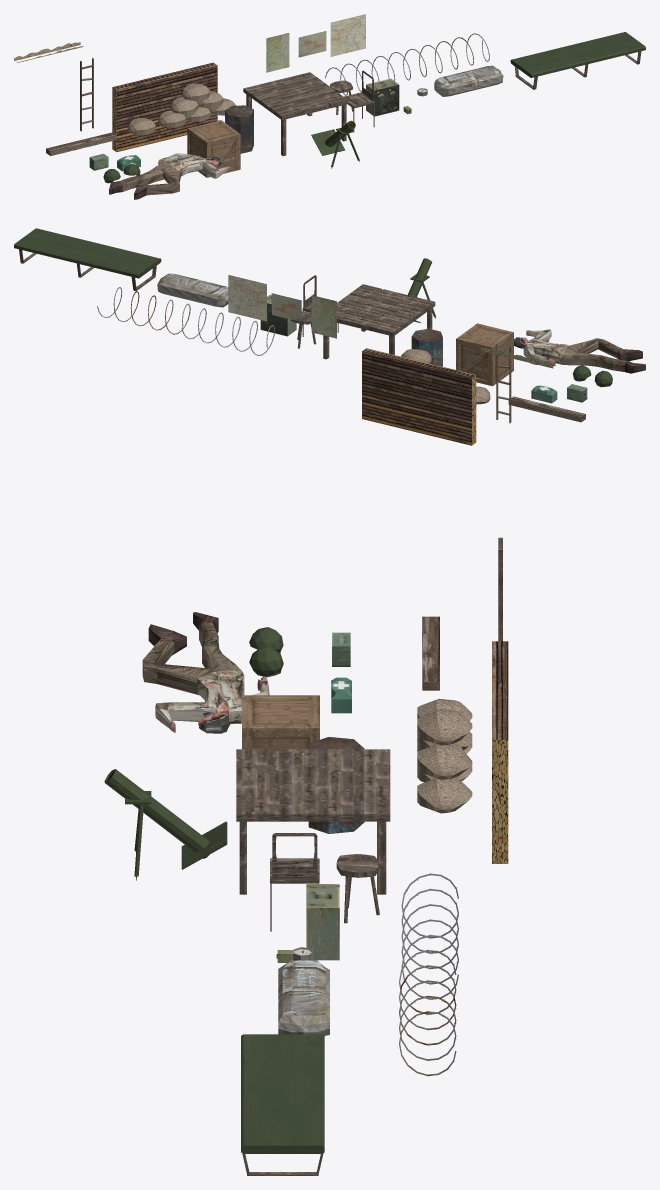
The model's file is WW2Props.fbx.
3 renders of one model, top to bottom at view 1: azimuth 30°, elevation 25°; view 2: azimuth 150°, elevation 25°; view 3: azimuth 270°, elevation 25°, orthographic. The views are drawn at different scales.
Visible parts, largest first — view 1: Planks, Table, Cot, DeadBody, Crate, SandbagStack, Bedroll, Map3, RadioGerman, Barrell, Moarter, Map1 (+9 smaller); view 2: Planks, Cot, Table, DeadBody, Crate, Bedroll, Map3, Map1, Barrell, Plank, Map2, RadioGerman (+6 smaller); view 3: Table, Cot, DeadBody, SandbagStack, Crate, Planks, Bedroll, Moarter, RadioGerman, BarbedWireRusty, Chair, BarbedWireClean (+3 smaller).
Boxes of the visible parts, left/top/right/bottom form: Planks: left=112, top=62, right=217, bottom=152; Table: left=243, top=72, right=348, bottom=156; Cot: left=510, top=32, right=645, bottom=89; DeadBody: left=109, top=153, right=229, bottom=199; Crate: left=187, top=120, right=240, bottom=177; SandbagStack: left=158, top=83, right=235, bottom=127; Bedroll: left=434, top=65, right=503, bottom=96; Map3: left=330, top=14, right=365, bottom=56; RadioGerman: left=366, top=78, right=399, bottom=116; Barrell: left=225, top=105, right=253, bottom=153; Moarter: left=311, top=120, right=359, bottom=168; Map1: left=266, top=33, right=289, bottom=72; Planks: left=362, top=348, right=476, bottom=445; Cot: left=14, top=228, right=161, bottom=291; Table: left=323, top=284, right=435, bottom=359; DeadBody: left=514, top=329, right=645, bottom=373; Crate: left=456, top=323, right=513, bottom=386; Bedroll: left=157, top=273, right=228, bottom=307; Map3: left=228, top=275, right=266, bottom=321; Map1: left=311, top=295, right=336, bottom=338; Barrell: left=411, top=328, right=442, bottom=366; Plank: left=508, top=396, right=585, bottom=422; Map2: left=271, top=293, right=301, bottom=321; RadioGerman: left=260, top=295, right=296, bottom=336; Table: left=236, top=749, right=390, bottom=894; Cot: left=241, top=1034, right=324, bottom=1175; DeadBody: left=142, top=612, right=269, bottom=733; SandbagStack: left=417, top=709, right=472, bottom=813; Crate: left=242, top=695, right=319, bottom=753; Planks: left=492, top=641, right=508, bottom=863; Bedroll: left=278, top=960, right=329, bottom=1035; Moarter: left=104, top=769, right=227, bottom=880; RadioGerman: left=306, top=884, right=339, bottom=960; BarbedWireRusty: left=399, top=949, right=456, bottom=1076; Chair: left=270, top=833, right=319, bottom=931; BarbedWireClean: left=401, top=873, right=458, bottom=999.
Bounding box in the file's own units: 1661 × 302 × 586.
22 materials, 22 textured.
